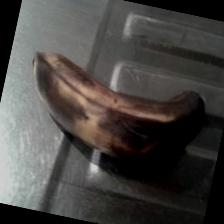Banana Rotten: (4, 26, 224, 190)
